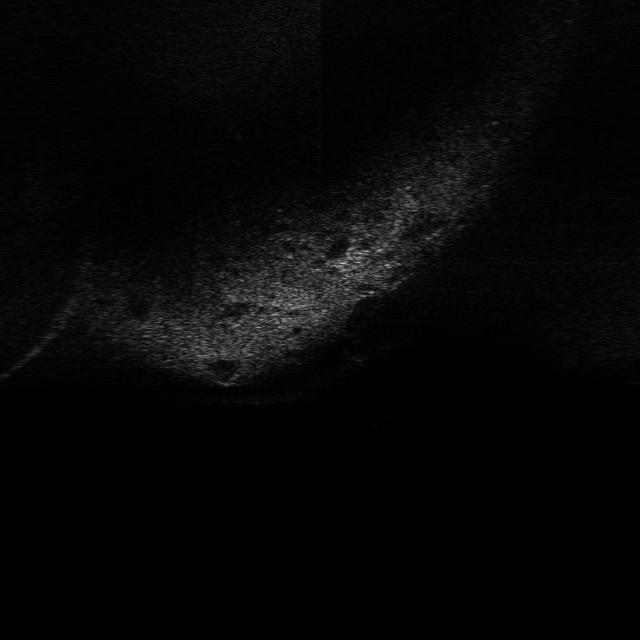ball: (341, 334, 377, 363)
